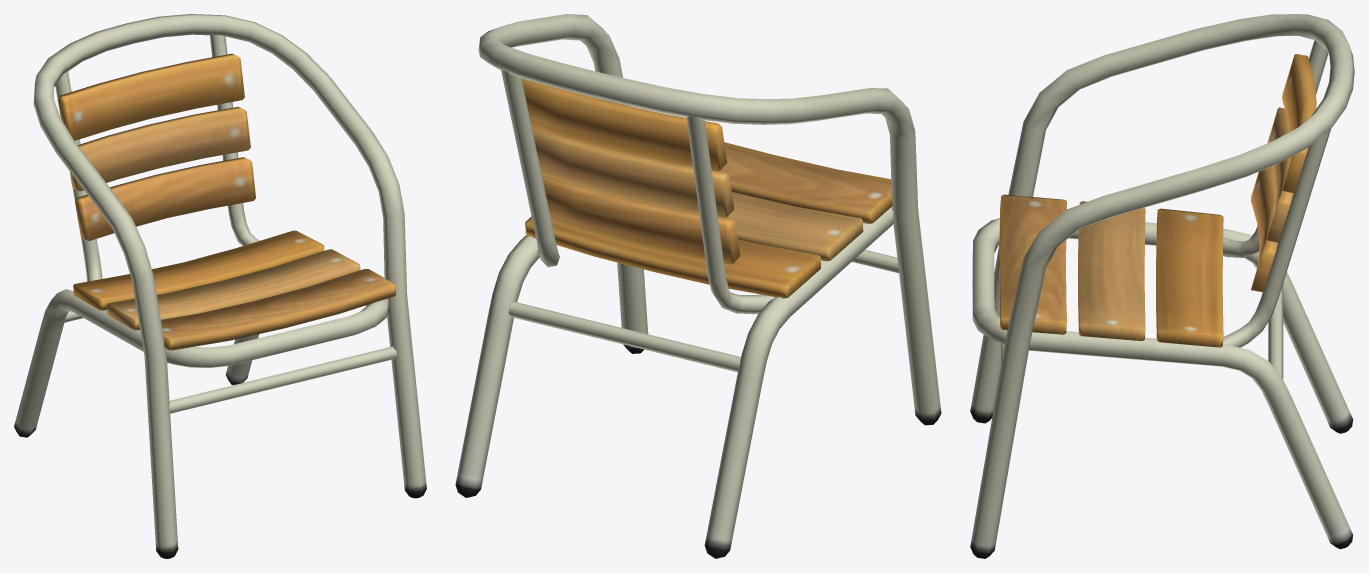
3 renders of one model, left to right at view 1: azimuth 30°, elevation 25°; view 2: azimuth 150°, elevation 25°; view 3: azimuth 270°, elevation 25°, orthographic. The views are drawn at different scales.
Bounding box in the file's own units: 7.01 × 9.43 × 7.62.
1 material, 1 textured.
